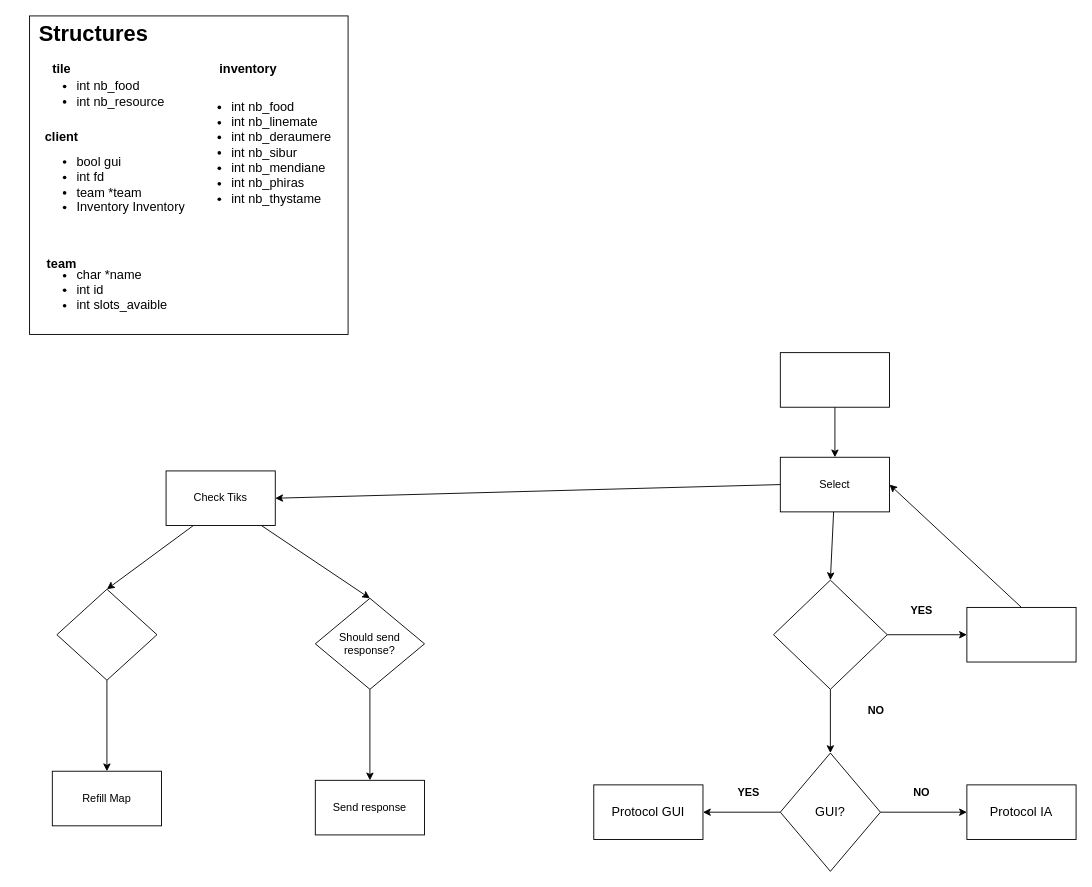
The diagram is 1092 pixels wide and 887 high, and some of its shapes have lost their labels. The box of each missing label's shape, as (x1, y1, x2, y2) in pixels:
Connection TCP: (779, 352, 890, 407)
Init new client: (966, 607, 1076, 662)
New Connection?: (773, 579, 887, 689)
Should Refill Map: (56, 588, 157, 680)
